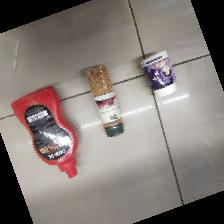Chinsu: (11, 85, 82, 179)
TayNinh_green: (80, 63, 126, 140)
Xylitol_BTS: (137, 50, 180, 102)
